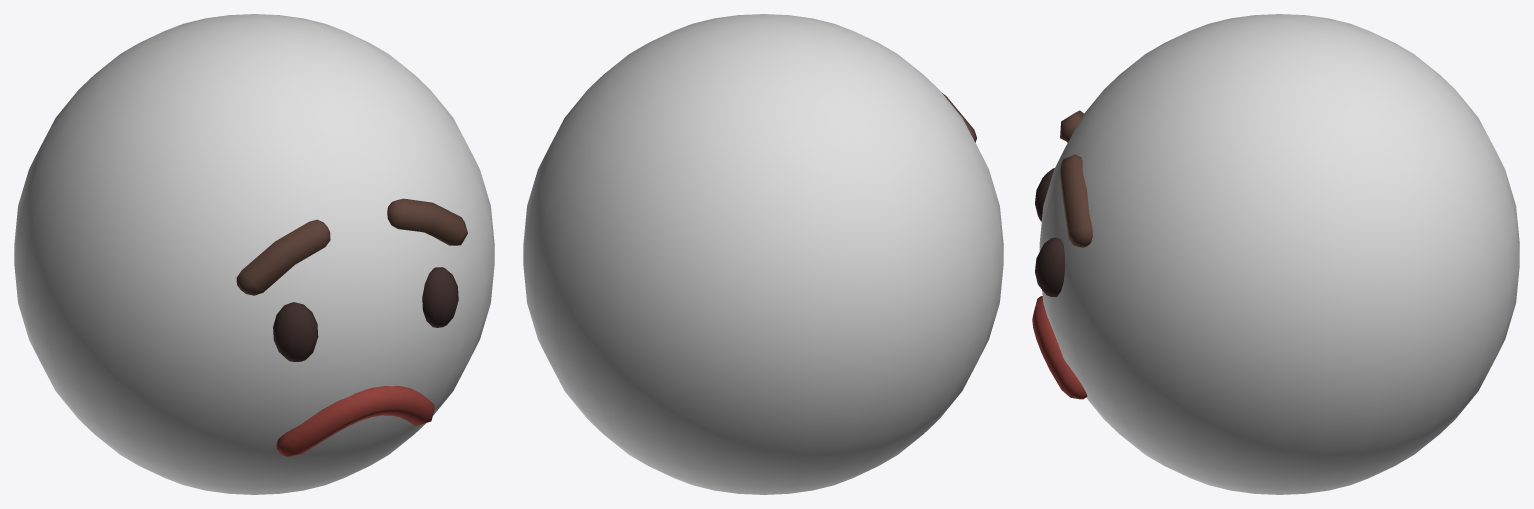
File: face_sad.glb
3 views of the same model, side by side, from view 1: azimuth 30°, elevation 25°; view 2: azimuth 150°, elevation 25°; view 3: azimuth 270°, elevation 25° (orthographic).
Parts seen in each view (by area): view 1: face_sad; view 2: face_sad; view 3: face_sad.
Boxes of the visible parts, box(x1,y1,x2,y2) form: face_sad: box(14, 14, 494, 494); face_sad: box(523, 14, 1003, 494); face_sad: box(1032, 14, 1519, 494).
Bounding box in the file's own units: 1 × 1 × 1.01.
